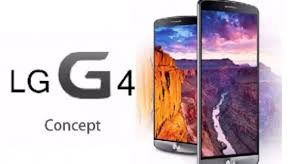lg: (195, 1, 262, 163)
